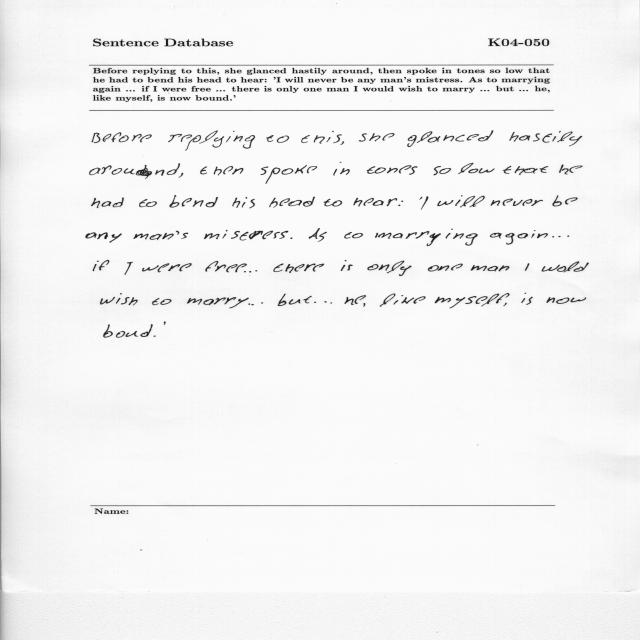word: (407, 131, 582, 147), (375, 229, 478, 246), (168, 131, 255, 151), (435, 293, 510, 308), (261, 165, 318, 184), (124, 163, 180, 179), (490, 230, 548, 245), (204, 230, 288, 240), (103, 324, 153, 338), (187, 297, 249, 308), (92, 132, 152, 143), (368, 261, 412, 276), (169, 195, 218, 208), (437, 195, 485, 208), (380, 294, 426, 307), (301, 131, 342, 144), (542, 262, 589, 273), (273, 263, 324, 273), (269, 197, 315, 208), (367, 165, 417, 175), (134, 231, 188, 240), (205, 261, 247, 272), (100, 293, 138, 305), (142, 263, 192, 272), (200, 166, 244, 176), (277, 294, 312, 306), (458, 163, 495, 174), (503, 166, 548, 175), (86, 232, 122, 243), (490, 199, 543, 206), (353, 198, 397, 206), (90, 166, 122, 176), (92, 198, 124, 208), (359, 133, 394, 142), (552, 196, 578, 207), (428, 264, 463, 272), (547, 297, 587, 304), (232, 197, 255, 209), (308, 228, 327, 242), (559, 165, 583, 175), (333, 162, 350, 176), (471, 265, 509, 271), (344, 295, 366, 305), (266, 135, 289, 143), (434, 166, 452, 176), (93, 260, 109, 271), (139, 199, 157, 207), (324, 199, 342, 207), (521, 293, 533, 305), (152, 298, 172, 305), (344, 232, 363, 239), (341, 260, 353, 271), (124, 262, 133, 275), (421, 197, 428, 210), (314, 301, 332, 304), (248, 303, 263, 306), (244, 270, 257, 273), (552, 236, 569, 238), (525, 263, 529, 271), (179, 173, 184, 178), (399, 201, 404, 206), (340, 141, 344, 145), (503, 303, 507, 306), (420, 197, 423, 200), (364, 303, 366, 307), (290, 237, 293, 239), (164, 322, 166, 325), (154, 335, 156, 337)
